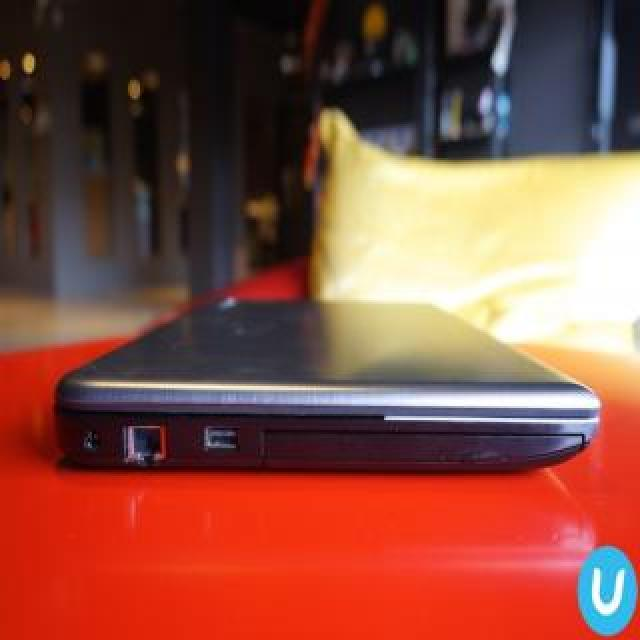laptop_computer: (45, 272, 610, 485)
